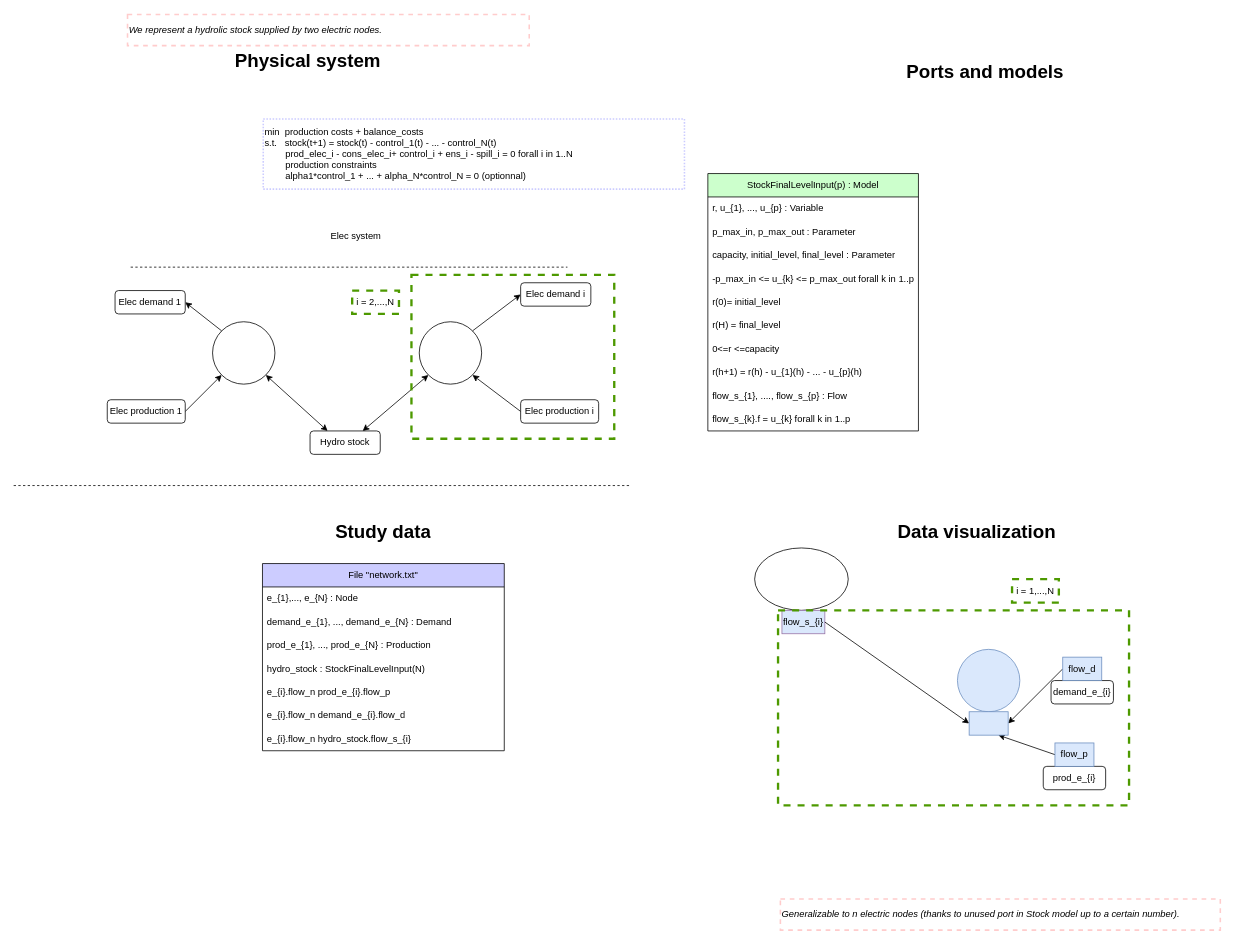
Some shapes in this 1235 by 944 pixel diagram are drawn without their labels. The shapes that lost their labels are listed below. From the top down, each one's centre as x and y in pixels, then its label:
(243,352): E1
(450,352): Ei
(801,578): hydro_stock
(988,680): e_{i}
(988,723): flow_n
